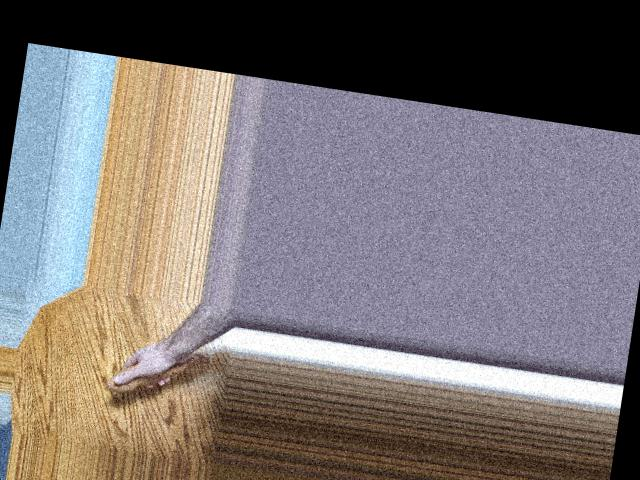sweet_potato: (104, 335, 218, 409)
